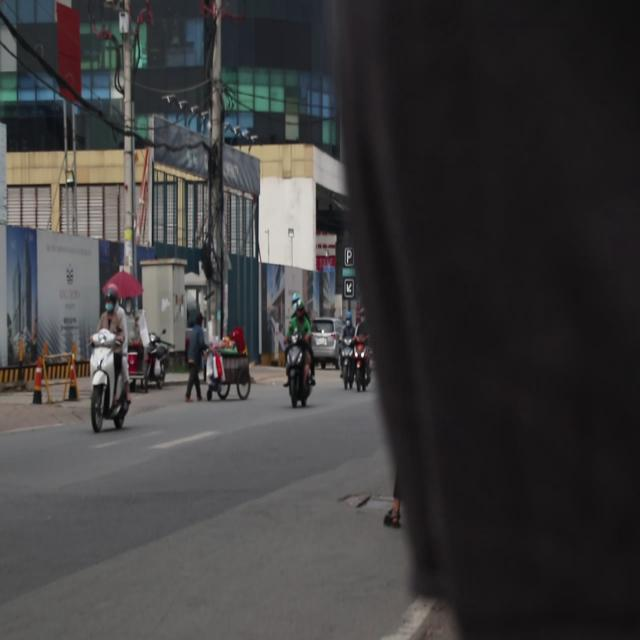car: (308, 318, 341, 369)
motorbike: (90, 329, 134, 431), (285, 337, 313, 409), (141, 336, 172, 392), (350, 335, 374, 402), (339, 337, 354, 387)
